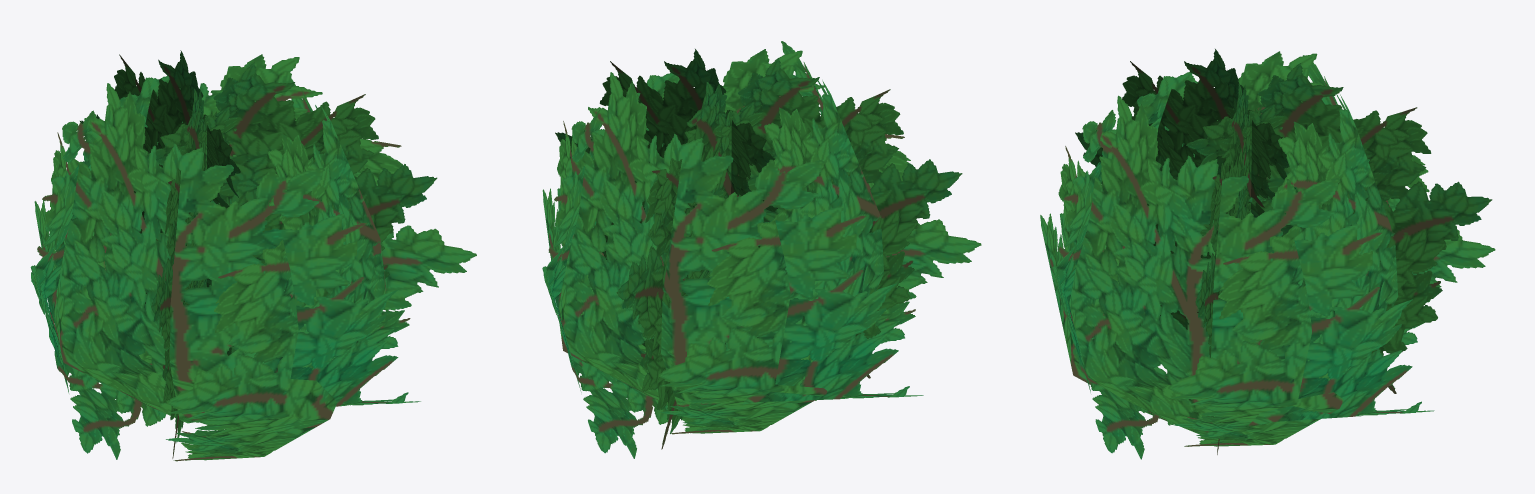
Rendered from Environment_Bush_001_Mesh.fbx.
3 renders of one model, left to right at view 1: azimuth 30°, elevation 25°; view 2: azimuth 150°, elevation 25°; view 3: azimuth 270°, elevation 25°, orthographic.
Visible parts, largest first — view 1: Environment_Bush_001_Mesh; view 2: Environment_Bush_001_Mesh; view 3: Environment_Bush_001_Mesh.
Part boxes in pixels (x1,y1,x2,y2): Environment_Bush_001_Mesh: (30, 50, 476, 461); Environment_Bush_001_Mesh: (542, 41, 981, 458); Environment_Bush_001_Mesh: (1040, 49, 1495, 459).
Bounding box in the file's own units: 310 × 254 × 295.
1 material, 1 textured.
